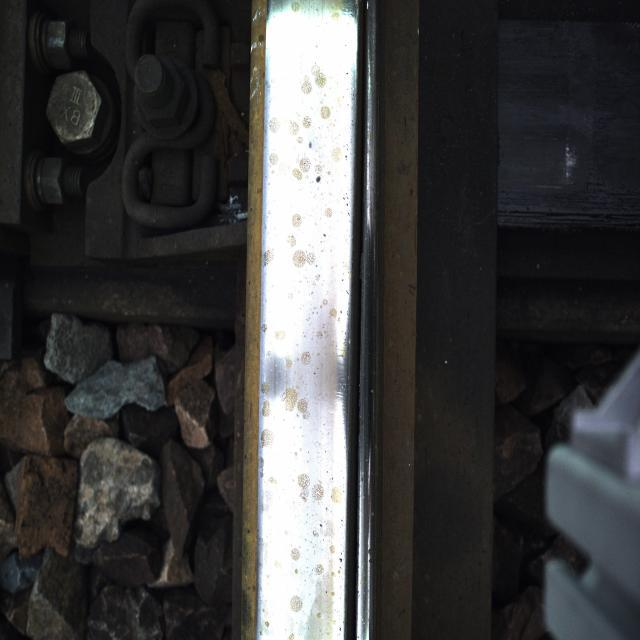scar: (267, 57, 345, 602)
